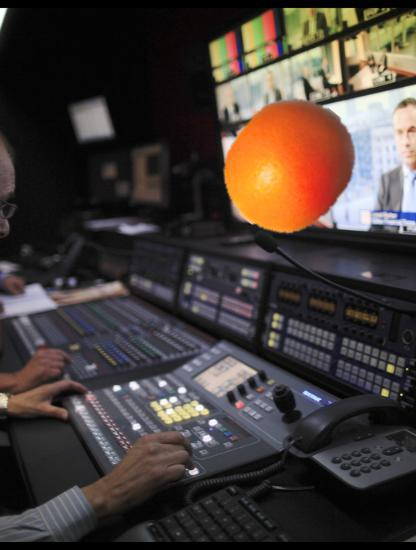Grapefruit: (220, 96, 360, 236)
